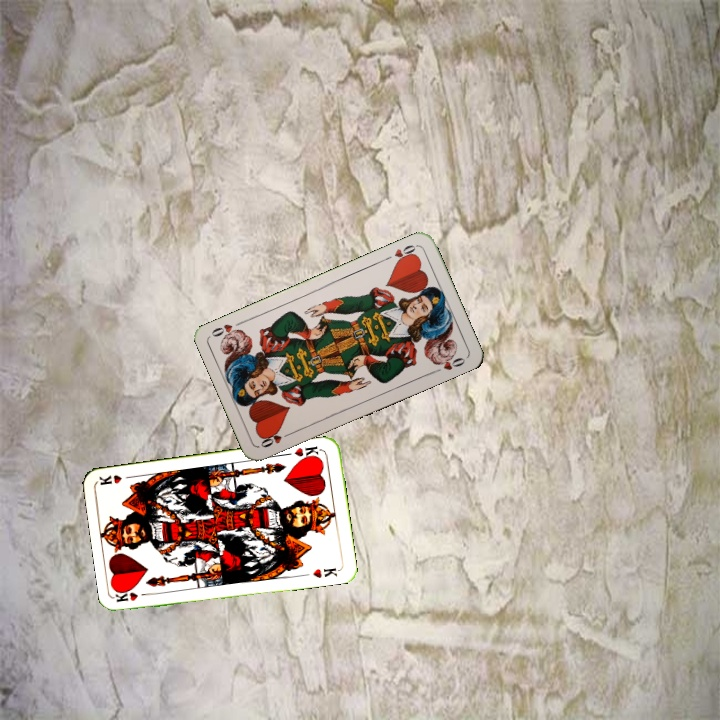HK: (290, 442, 324, 463), (113, 588, 154, 605)
HO: (381, 241, 419, 266), (256, 427, 295, 450)
